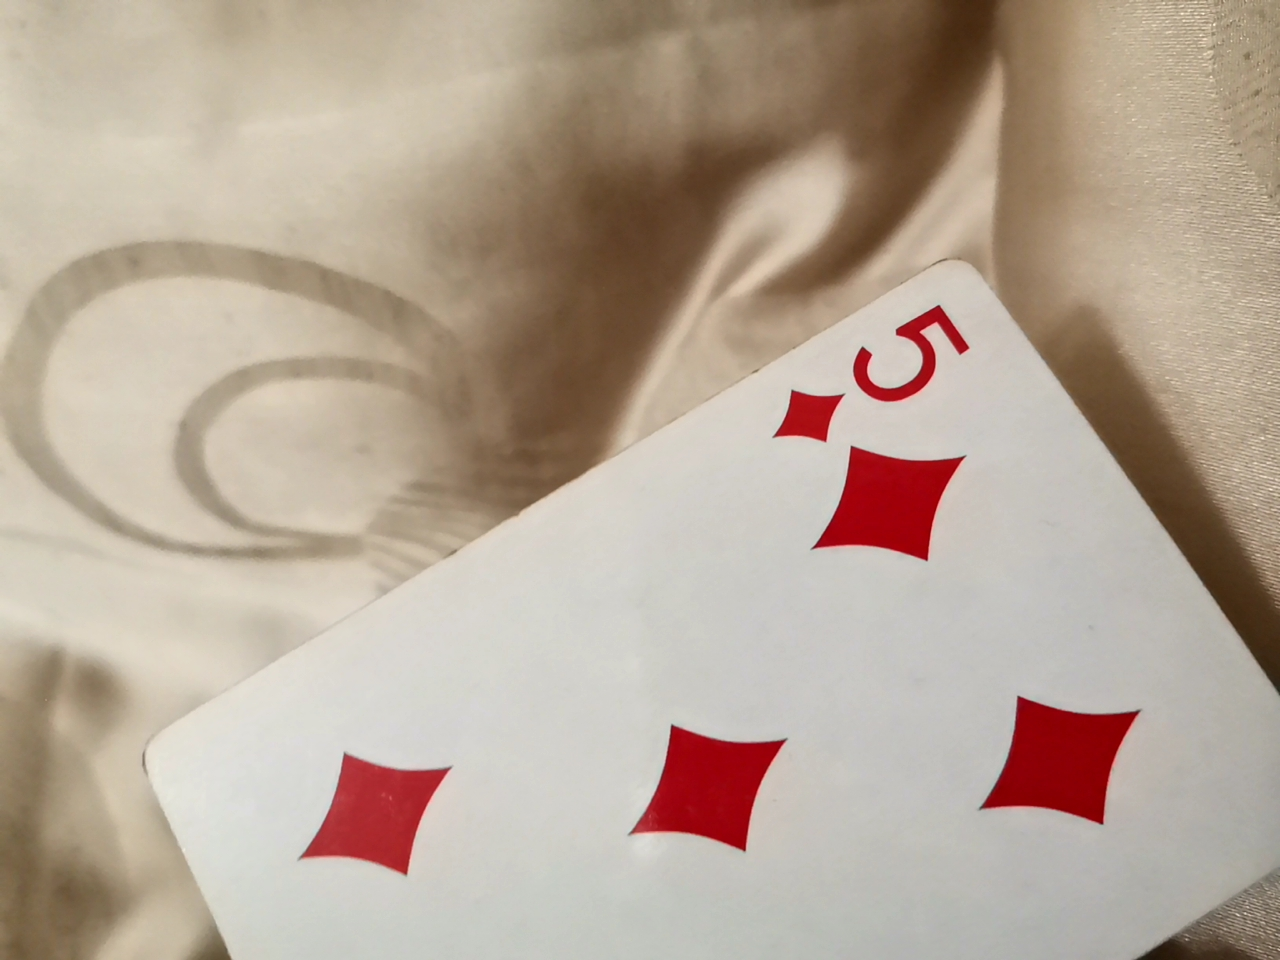fk 5: (72, 228, 1266, 955)
